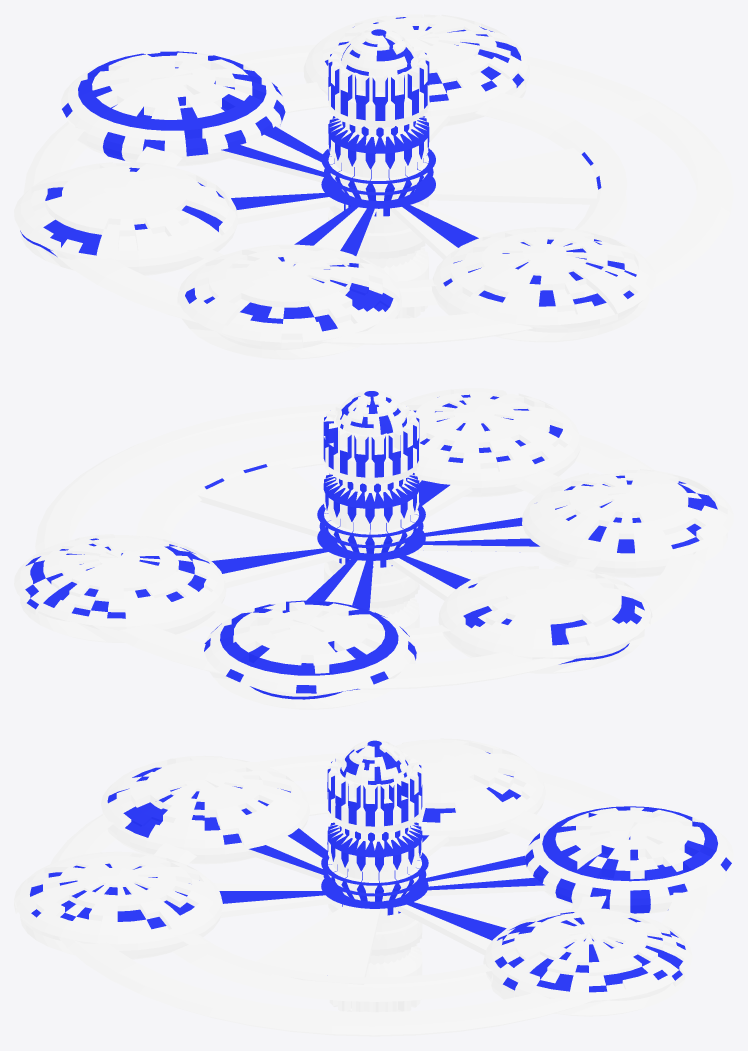
The model's file is spaceStation1.glb.
3 renders of one model, top to bottom at view 1: azimuth 30°, elevation 25°; view 2: azimuth 150°, elevation 25°; view 3: azimuth 270°, elevation 25°, orthographic. The views are drawn at different scales.
Visible parts, largest first — view 1: Spheres, MainCenter, OuterRings, MainCenterRing; view 2: Spheres, MainCenter, OuterRings, MainCenterRing; view 3: Spheres, MainCenter, OuterRings, MainCenterRing.
Part boxes in pixels (bbox=[...]): Spheres: bbox=[14, 14, 655, 359]; MainCenter: bbox=[213, 28, 597, 318]; OuterRings: bbox=[23, 44, 733, 344]; MainCenterRing: bbox=[321, 148, 435, 208]; Spheres: bbox=[14, 388, 733, 709]; MainCenter: bbox=[197, 390, 541, 655]; OuterRings: bbox=[35, 403, 707, 689]; MainCenterRing: bbox=[317, 504, 425, 560]; Spheres: bbox=[14, 738, 733, 1016]; MainCenter: bbox=[214, 739, 546, 1012]; OuterRings: bbox=[50, 753, 707, 1036]; MainCenterRing: bbox=[321, 852, 428, 908].
Size of the model in its own units: 104 by 48.07 by 111.
